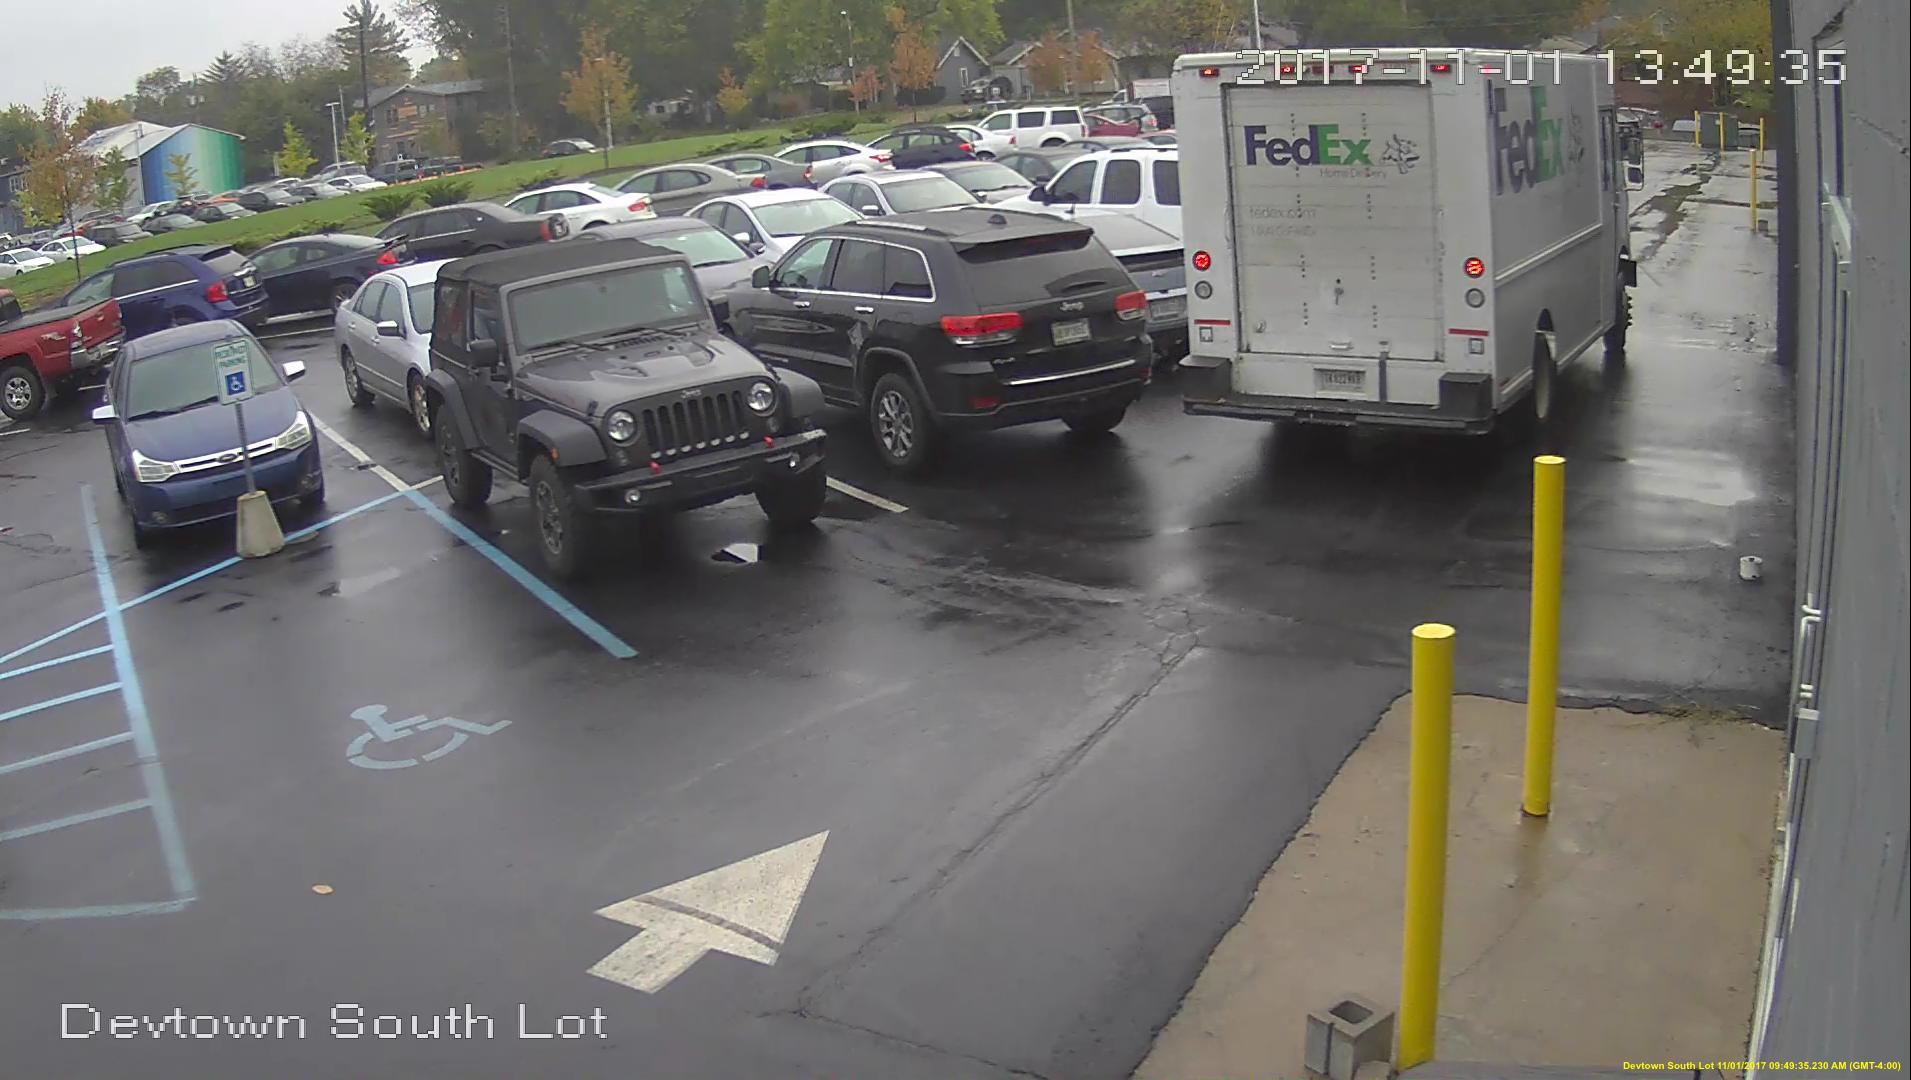fedex_truck: (1177, 52, 1641, 440)
